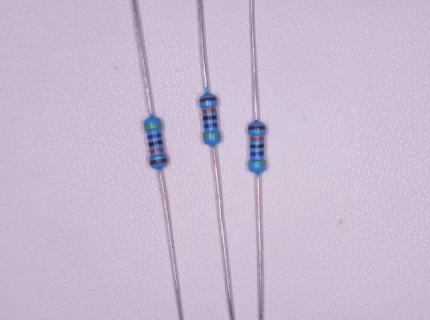Black band: (148, 140, 164, 148), (202, 116, 218, 121), (250, 144, 264, 148)
Brown band: (149, 158, 168, 166), (199, 97, 218, 102), (248, 125, 266, 130)
Orange band: (149, 148, 165, 154), (250, 136, 264, 142), (202, 108, 216, 113)
Violet band: (147, 134, 162, 140), (204, 123, 218, 129), (250, 151, 264, 156)
Yellow band: (143, 124, 163, 130), (202, 133, 221, 138), (249, 162, 267, 166)
